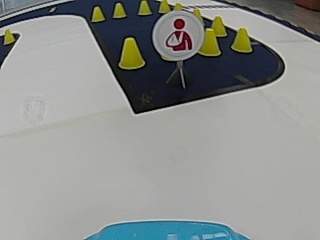cone: (117, 37, 144, 69), (199, 28, 221, 56), (231, 26, 252, 53), (212, 16, 226, 36), (112, 2, 126, 18), (91, 6, 105, 21), (138, 1, 151, 15), (3, 29, 14, 44), (158, 0, 169, 13)
patient: (158, 15, 199, 57)
